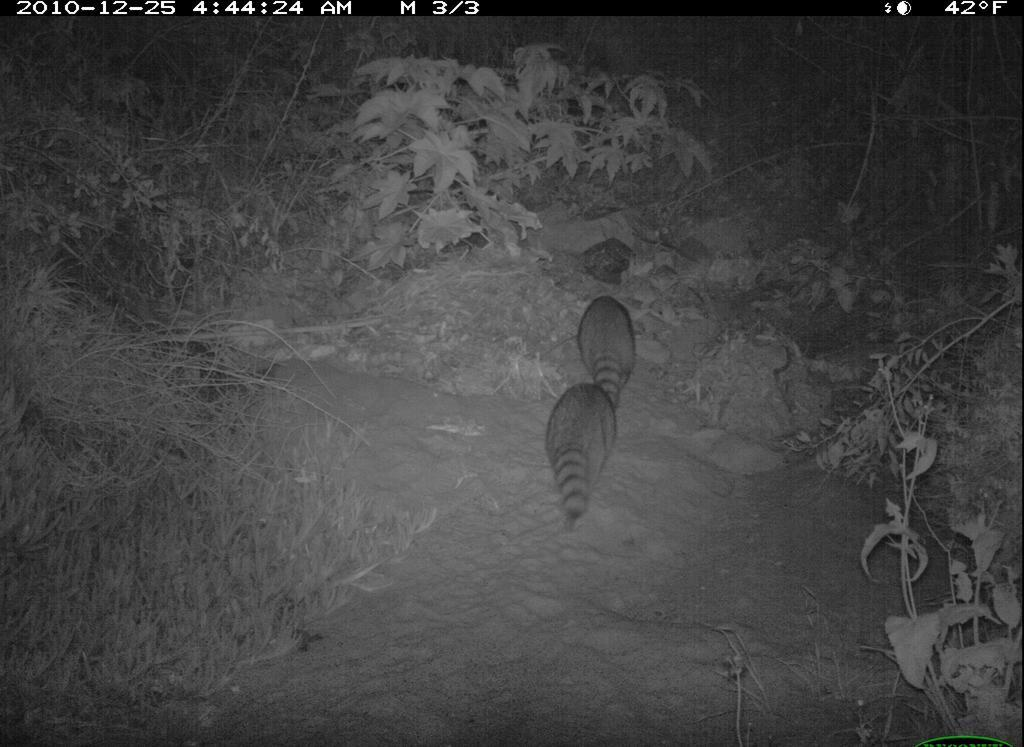raccoon: (545, 376, 628, 532), (580, 292, 647, 402)
